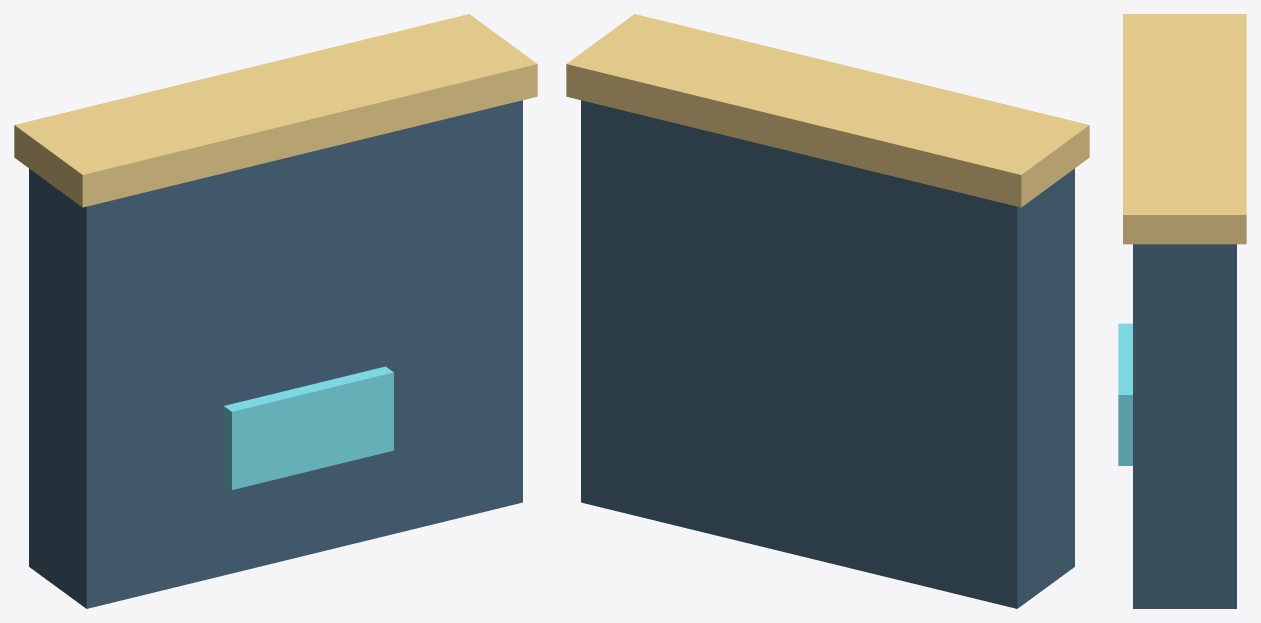
The model's file is wall_segment.glb.
The picture shows the model from 3 angles, left to right: view 1: azimuth 30°, elevation 25°; view 2: azimuth 150°, elevation 25°; view 3: azimuth 270°, elevation 25°; orthographic projection. The views are drawn at different scales.
Parts seen in each view (by area): view 1: outer_wall_0, safety_rail_1, security_beacon_2; view 2: outer_wall_0, safety_rail_1; view 3: outer_wall_0, safety_rail_1, security_beacon_2.
Boxes of the visible parts, bbox=[...] form: outer_wall_0: bbox=[29, 100, 522, 608]; safety_rail_1: bbox=[14, 14, 537, 207]; security_beacon_2: bbox=[223, 366, 393, 489]; outer_wall_0: bbox=[581, 100, 1074, 608]; safety_rail_1: bbox=[566, 14, 1089, 207]; outer_wall_0: bbox=[1133, 244, 1236, 608]; safety_rail_1: bbox=[1123, 14, 1246, 244]; security_beacon_2: bbox=[1118, 323, 1132, 465].
Bounding box in the file's own units: 1.46 × 1.35 × 0.395.
